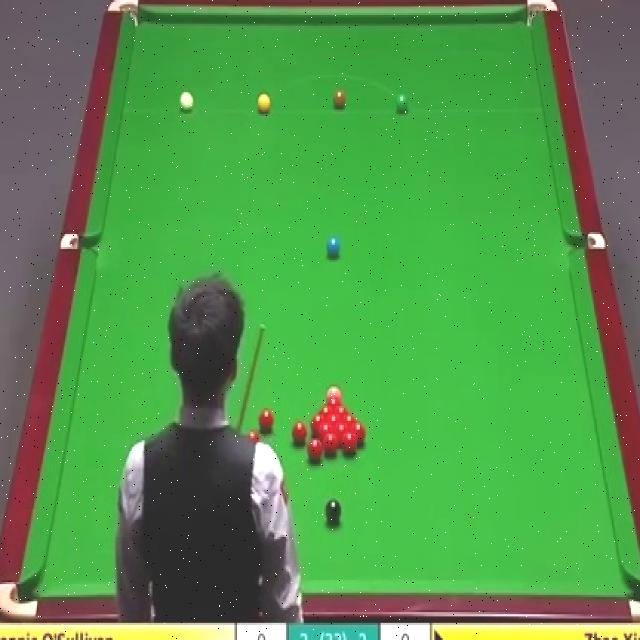black-ball: (325, 498, 342, 524)
blue-ball: (326, 238, 341, 255)
brown-ball: (333, 90, 346, 110)
green-ball: (394, 90, 410, 114)
pink-ball: (327, 386, 342, 402)
red-ball: (306, 436, 326, 461), (339, 432, 359, 456), (258, 408, 275, 431), (348, 421, 364, 444), (326, 431, 341, 454), (292, 422, 307, 444), (335, 424, 349, 446), (312, 413, 324, 427), (327, 398, 339, 412), (328, 414, 339, 428)
white-ball: (179, 91, 194, 111)
yellow-ball: (258, 92, 270, 114)
